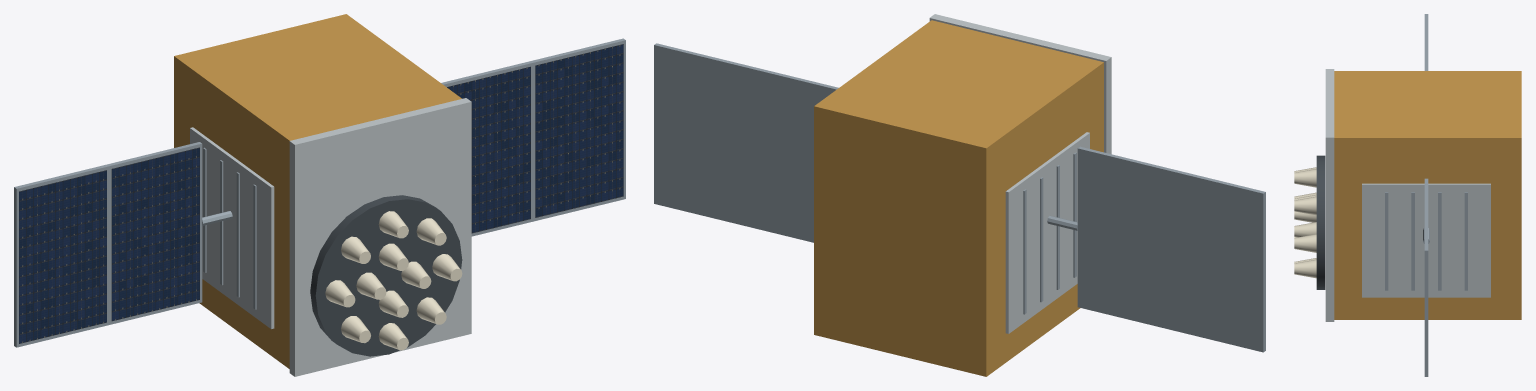
Rendered from gps-ii.glb.
3 views of the same model, side by side, from view 1: azimuth 30°, elevation 25°; view 2: azimuth 150°, elevation 25°; view 3: azimuth 270°, elevation 25° (orthographic). The views are drawn at different scales.
Parts seen in each view (by area): view 1: Photovoltaic laminates (×4), Equipment bus, Payload deck, Navigation antenna base, Radiator, Navigation antenna element (×12), Array frame (×4); view 2: Equipment bus, Array frame (×4), Radiator, Payload deck; view 3: Equipment bus, Radiator, Payload deck, Navigation antenna element (×5), Radiator channel (×4), Navigation antenna base, Array frame.
Part boxes in pixels (bbox=[...]): Photovoltaic laminates (×4): bbox=[19, 44, 623, 343]; Equipment bus: bbox=[174, 14, 461, 368]; Payload deck: bbox=[289, 98, 471, 376]; Navigation antenna base: bbox=[310, 195, 462, 356]; Radiator: bbox=[190, 127, 274, 329]; Navigation antenna element (×12): bbox=[325, 211, 462, 350]; Array frame (×4): bbox=[14, 38, 625, 347]; Equipment bus: bbox=[814, 20, 1103, 376]; Array frame (×4): bbox=[654, 43, 1265, 352]; Radiator: bbox=[1005, 132, 1089, 333]; Payload deck: bbox=[929, 14, 1111, 154]; Equipment bus: bbox=[1334, 71, 1521, 319]; Radiator: bbox=[1362, 183, 1490, 297]; Payload deck: bbox=[1325, 69, 1334, 321]; Navigation antenna element (×5): bbox=[1294, 169, 1316, 278]; Radiator channel (×4): bbox=[1385, 192, 1467, 290]; Navigation antenna base: bbox=[1316, 155, 1325, 289]; Array frame: bbox=[1424, 214, 1428, 376].
Size of the model in its own units: 5.3 by 1.93 by 2.15.
Materials: 6 (1 with a texture image).
